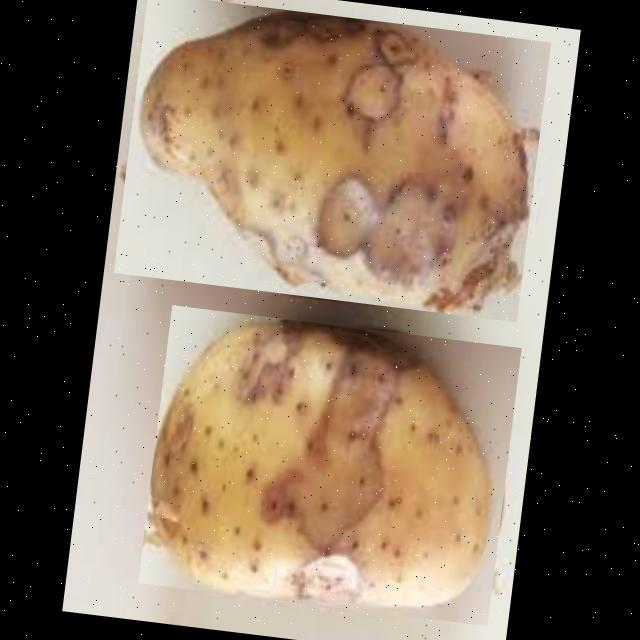Diseased-fungal potato: (112, 0, 549, 321), (137, 304, 520, 626)
